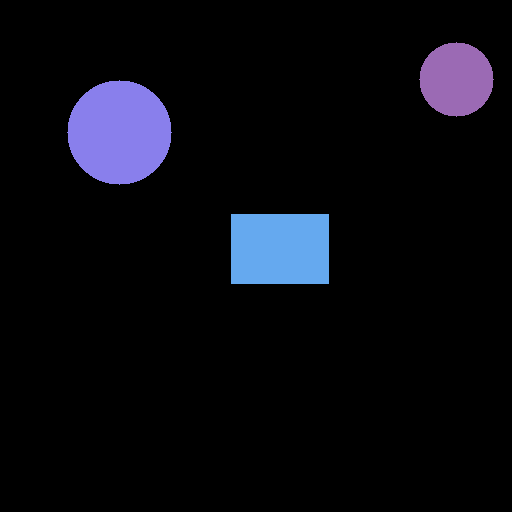circle: (67, 80, 171, 184), (419, 42, 493, 116)
rectangle: (231, 214, 328, 283)
